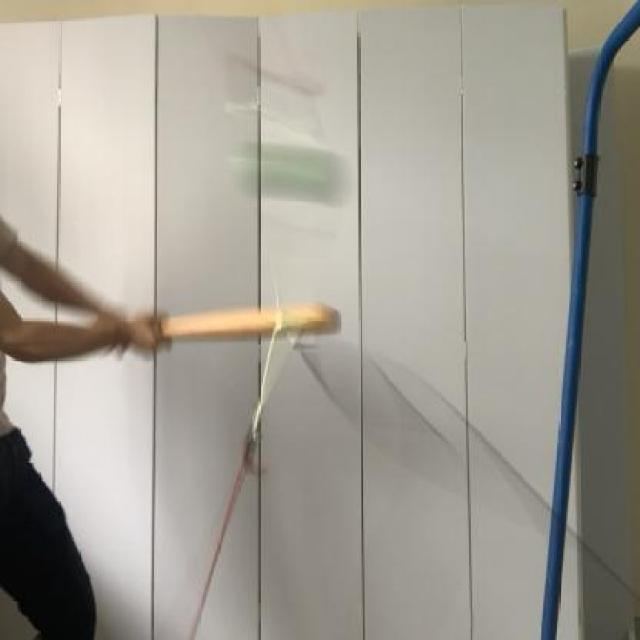baseball: (224, 124, 354, 213)
